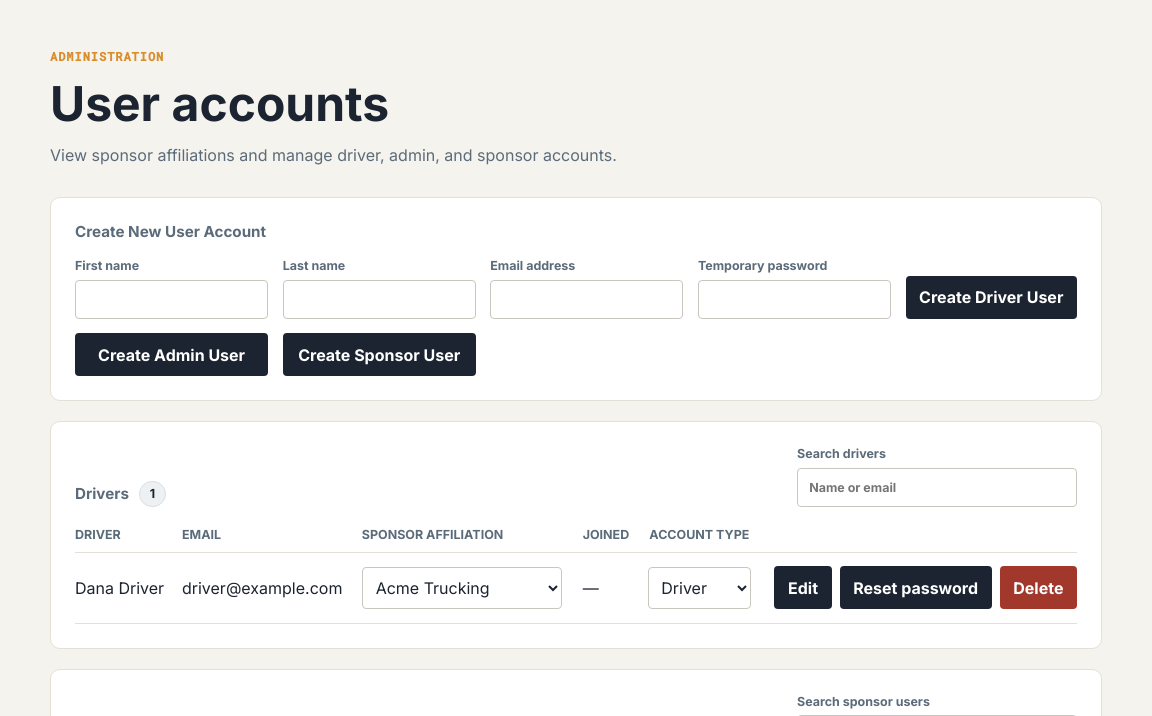
Test: updates a driver sponsor affiliation when the dropdown changes
This screenshot has width=1152, height=716.
Step 1. Select "Roadrunner Logistics" in the 1st dropdown named "Sponsor affiliation for Dana Driver" → [462, 588], box left=362, top=567, right=562, bottom=609
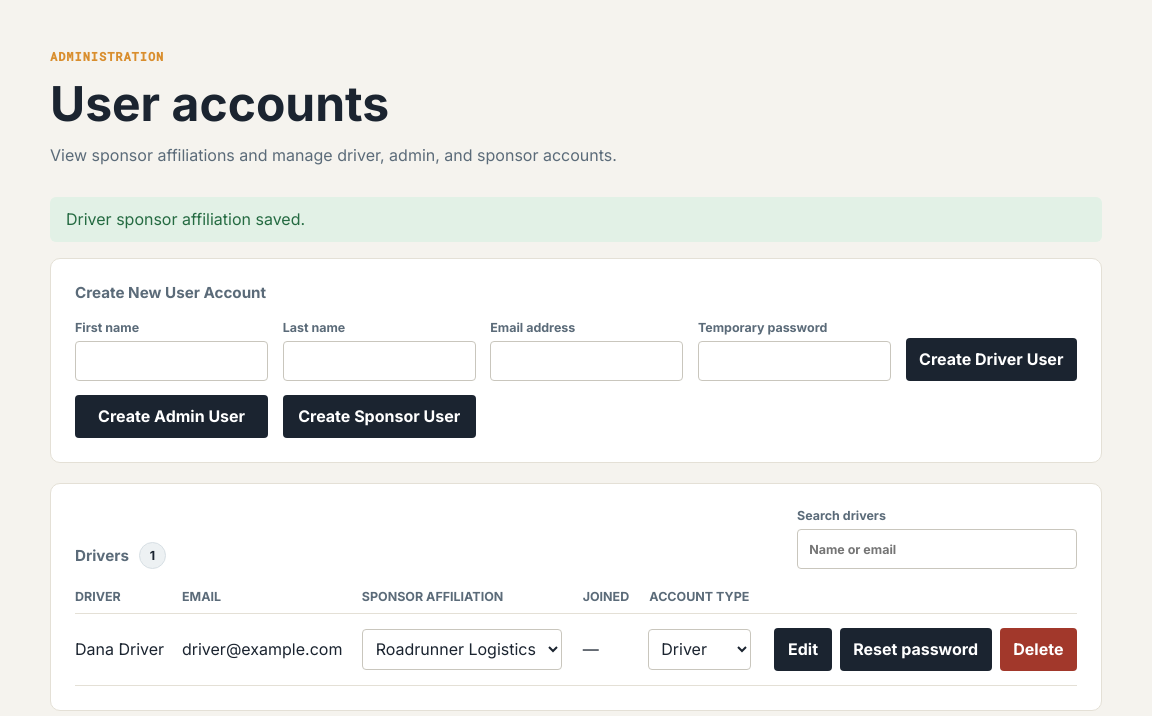
Expected: the text "Driver sponsor affiliation saved." is shown, left=50, top=197, right=1102, bottom=242
